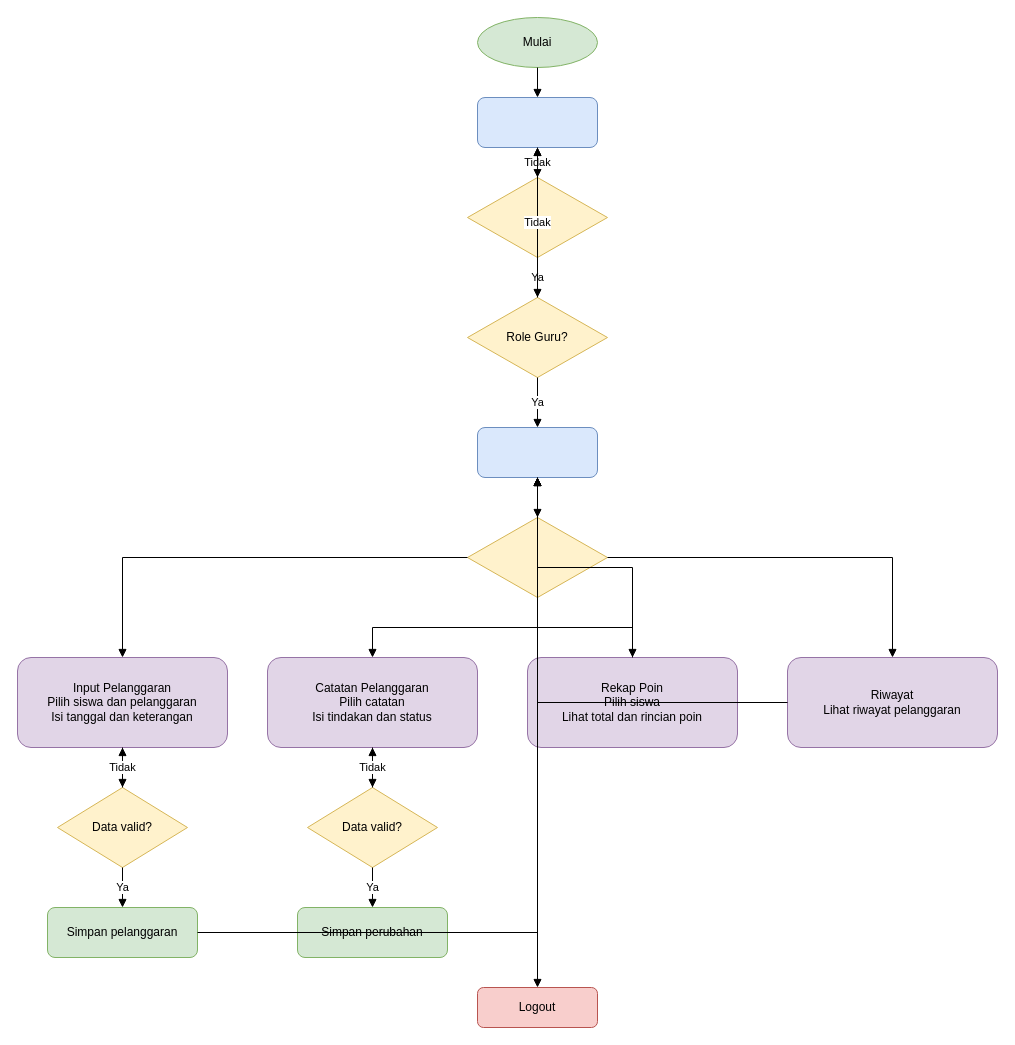
Some shapes in this 1015 by 1045 pixel diagram are drawn without their labels. The shapes that lost their labels are listed below. From the top down, each one's box as (x1, y1, x2, y2) in pixels, then its label:
(476, 96, 598, 148): Login
(466, 176, 608, 258): Login valid?
(476, 426, 598, 478): Dashboard Guru
(466, 516, 608, 598): Pilih fitur
